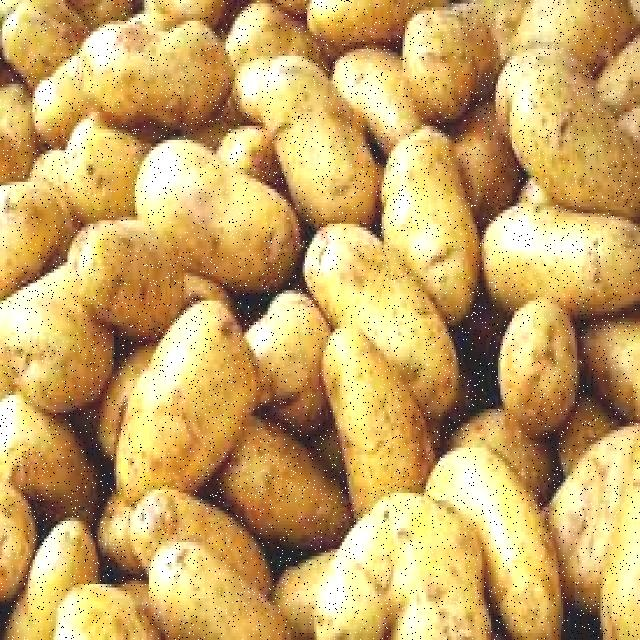Potato: (96, 292, 269, 506), (127, 112, 314, 296), (308, 282, 448, 516), (492, 49, 640, 226), (376, 110, 484, 326), (80, 10, 238, 148), (479, 180, 640, 308)
